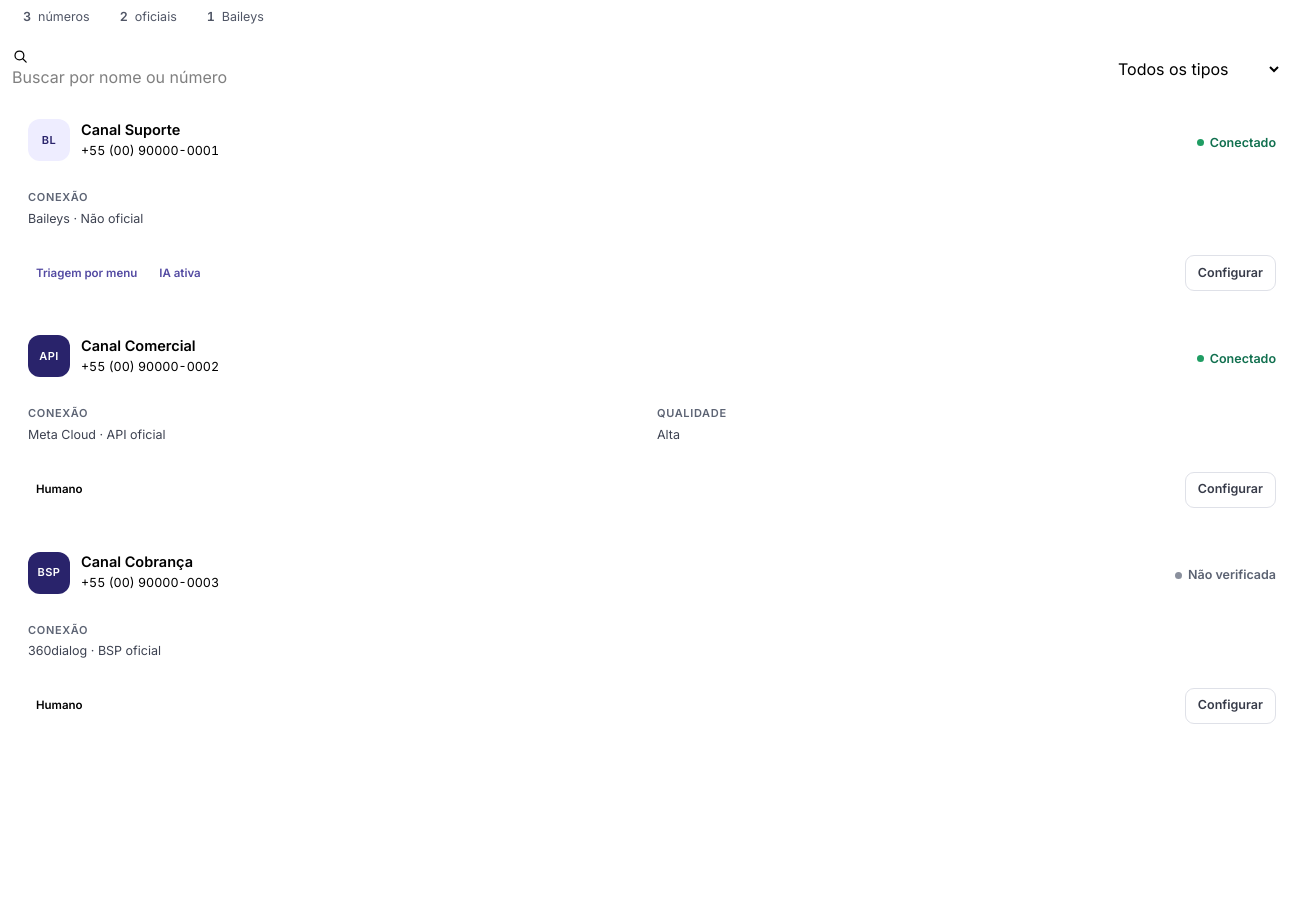
Scenario: Números conectados: busca, filtro e vazio › sem resultado no filtro: a frase de sempre
This screenshot has width=1292, height=900.
Type "zzz" into the search field labelled "Buscar por nome ou número" at (129, 77), box 12,65 -> 246,89
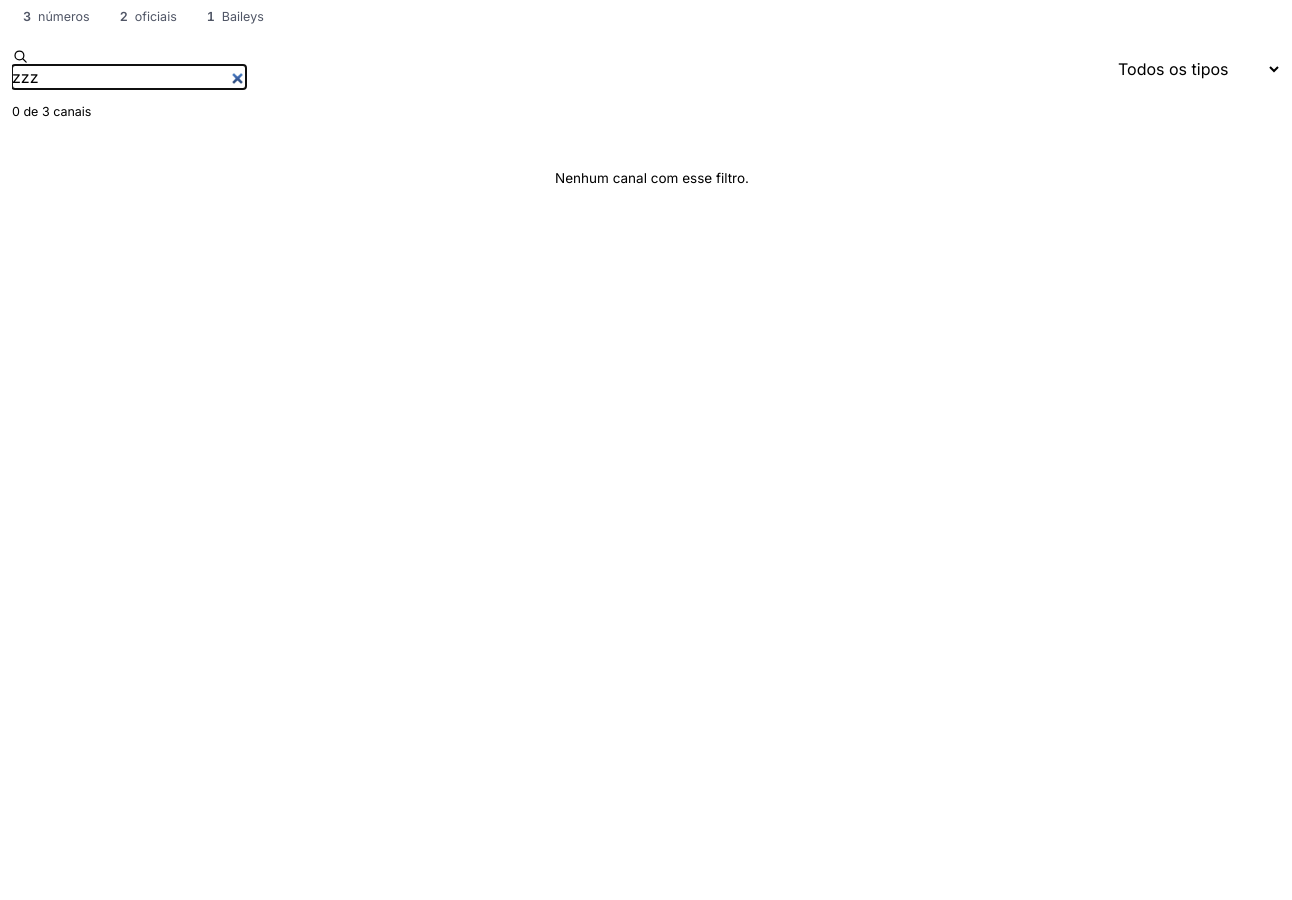
Result: the text "Nenhum canal com esse filtro." is shown at 555,170 -> 749,186
